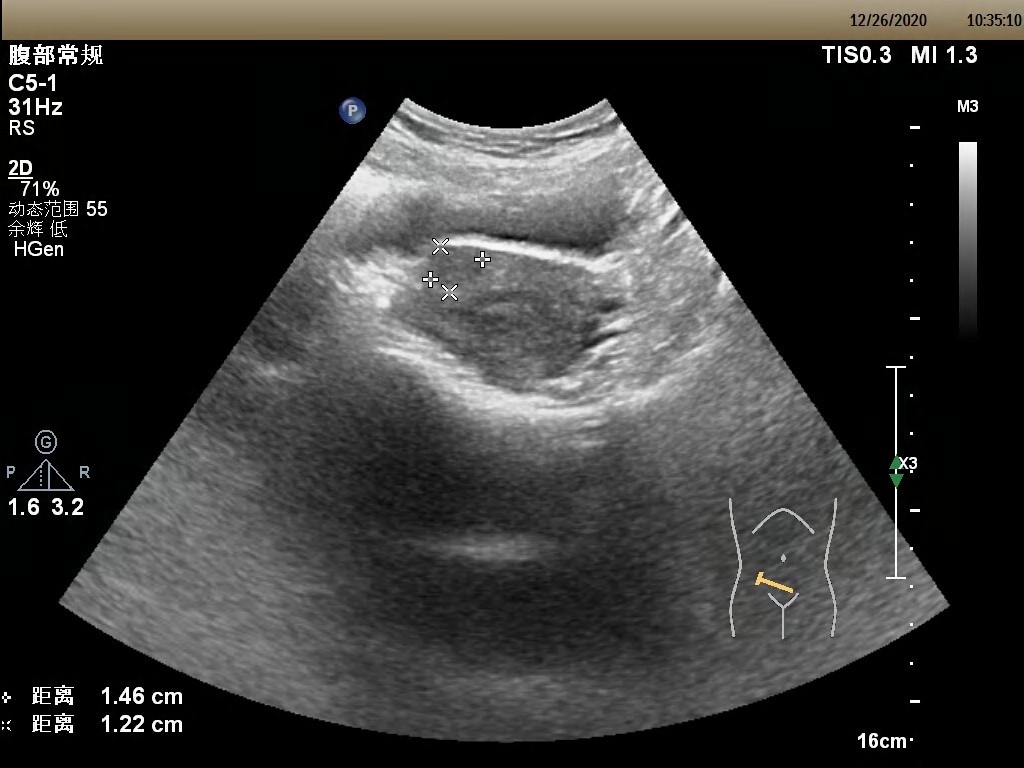肌瘤: (429, 245, 486, 293)
